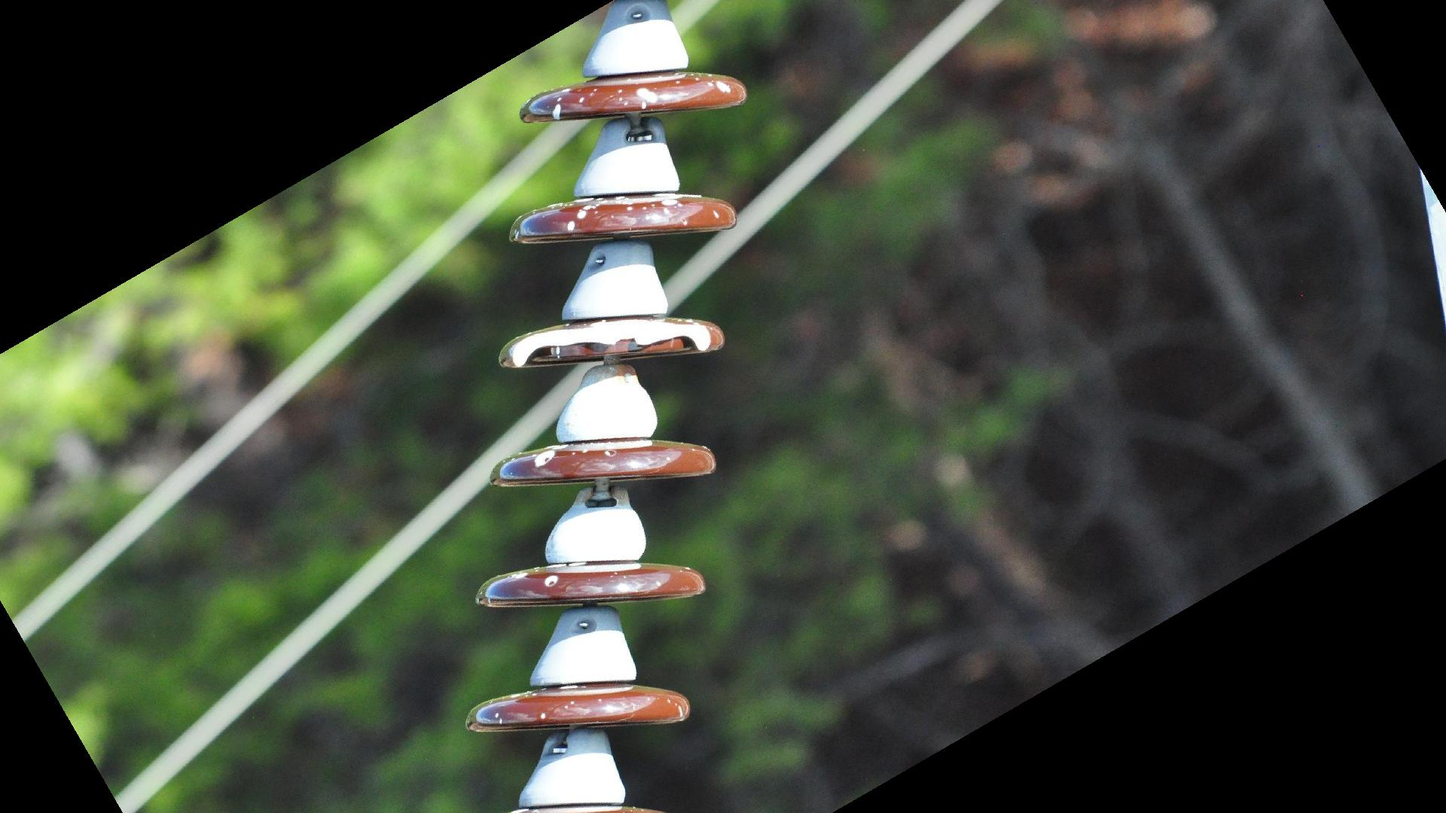insulator: (459, 64, 758, 750)
insulator_breakage: (499, 312, 718, 374)
